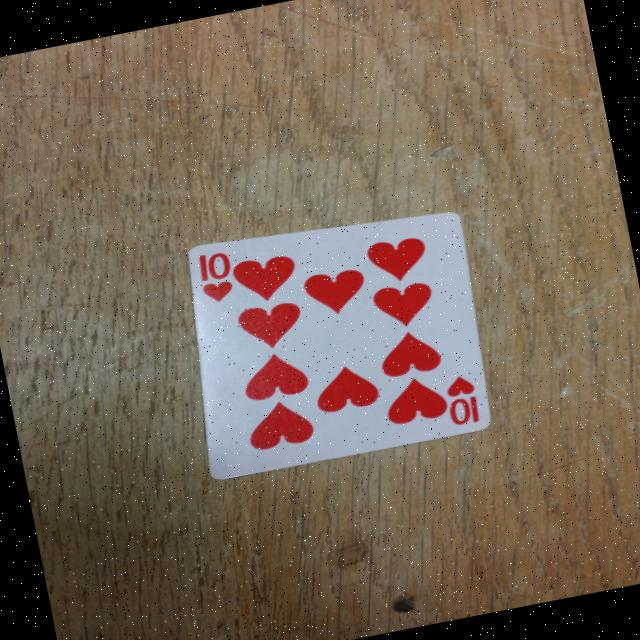10h: (434, 366, 496, 434), (187, 242, 240, 314)
